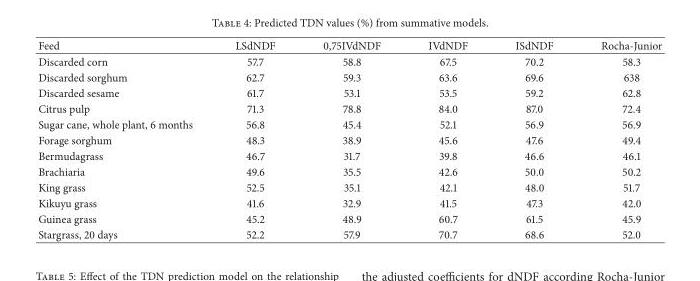table: (37, 37, 661, 241)
table column: (37, 37, 213, 241), (298, 37, 403, 241), (403, 37, 490, 241), (490, 37, 576, 241), (213, 37, 298, 241), (576, 37, 661, 241)
table column header: (37, 37, 661, 52)
table row: (37, 52, 661, 68), (37, 68, 661, 84), (37, 84, 661, 100), (37, 100, 661, 116), (37, 131, 661, 147), (37, 147, 661, 163), (37, 163, 661, 179), (37, 194, 661, 210), (37, 210, 661, 226), (37, 37, 661, 52), (37, 116, 661, 131), (37, 179, 661, 194), (37, 226, 661, 241)
